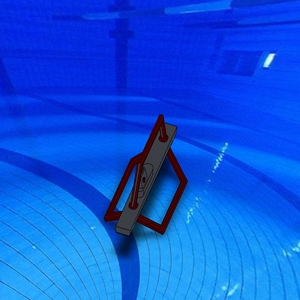submarine: (91, 113, 206, 242)
